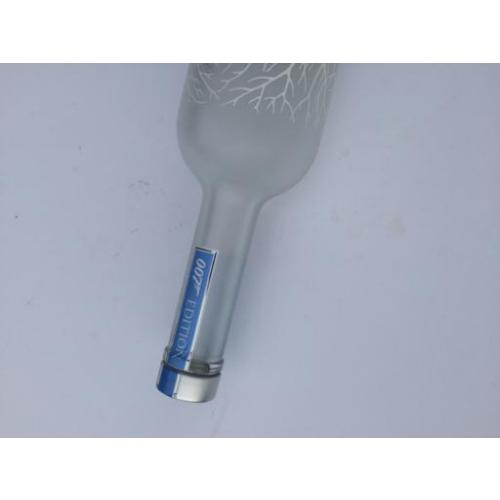glass: (122, 62, 339, 403)
